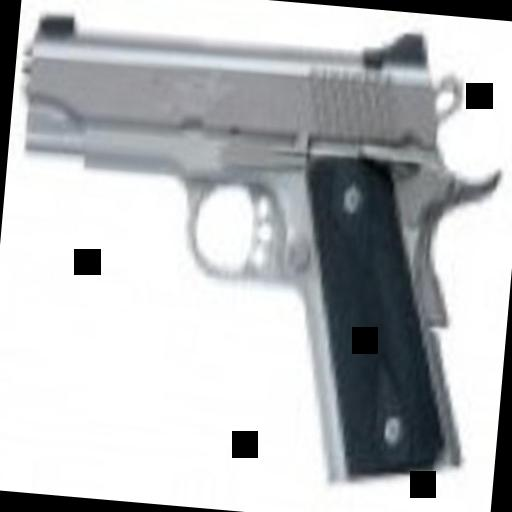Handgun: (0, 3, 510, 496)
